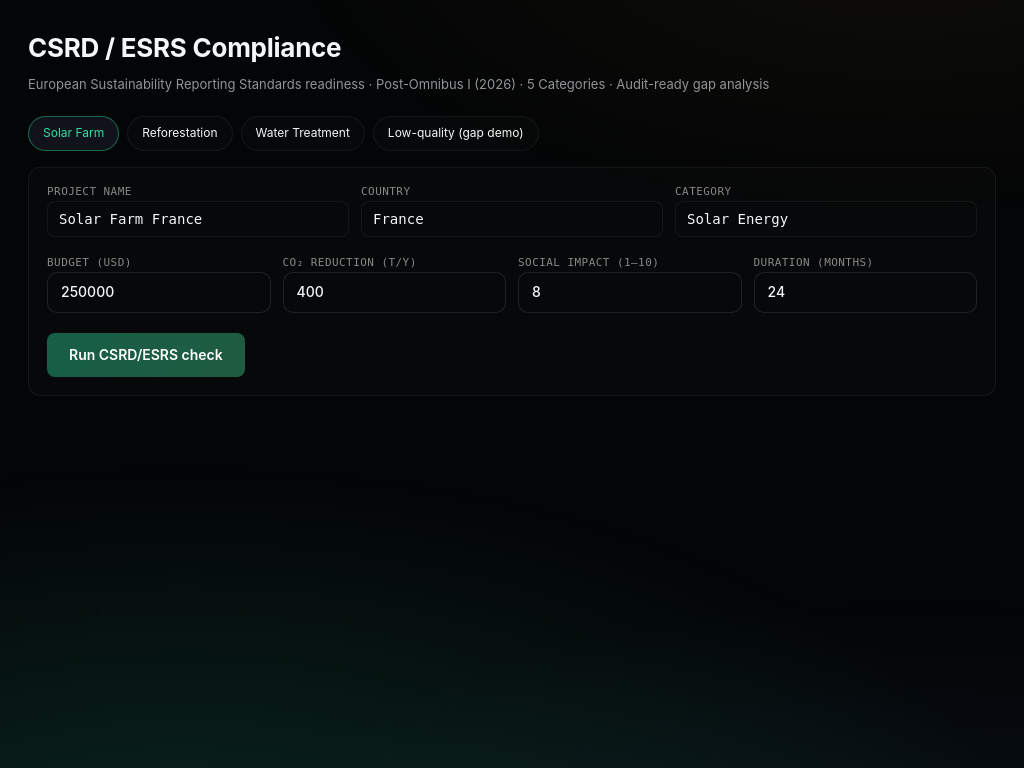
Test: CompliancePage when the API answers with nothing › renders the readiness the server actually returned
What coordinates should you click on to do the following:
click the button "Run CSRD/ESRS check"
I would click on:
 (146, 355)
Its box is [47,333,245,376].
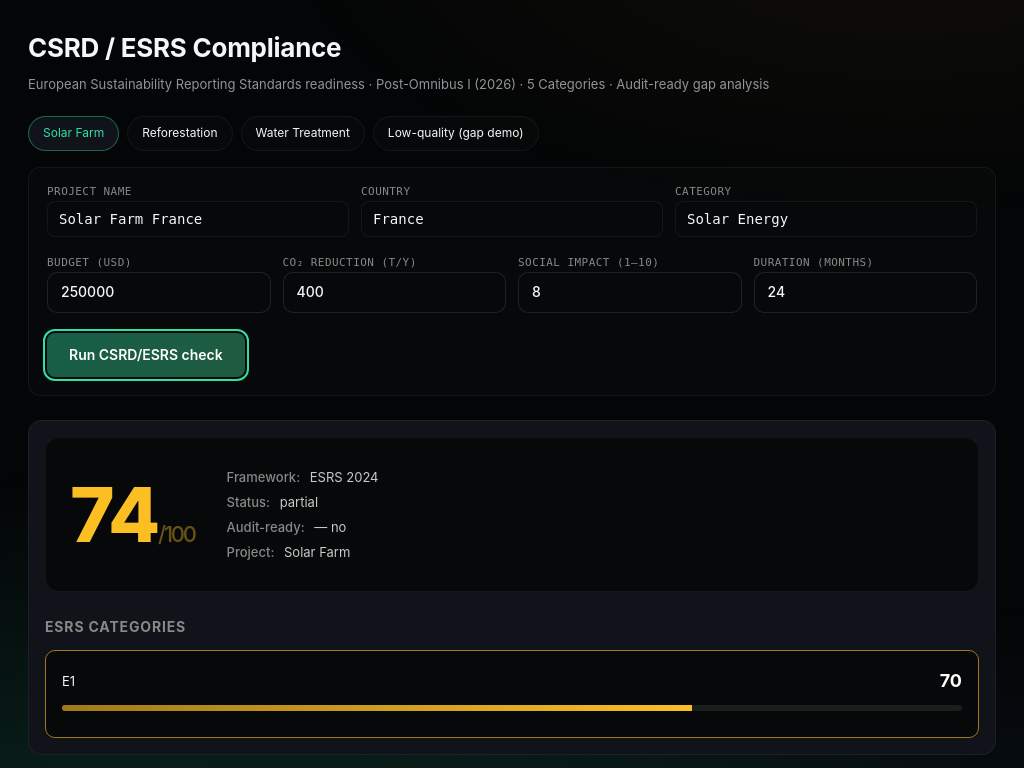
Expected: the text "Solar Farm" is shown, [28,116,119,151]
Expected: the element with class "cmp-result" is shown, [28,420,996,755]
Expected: the text "74" is shown, [70,468,158,560]
